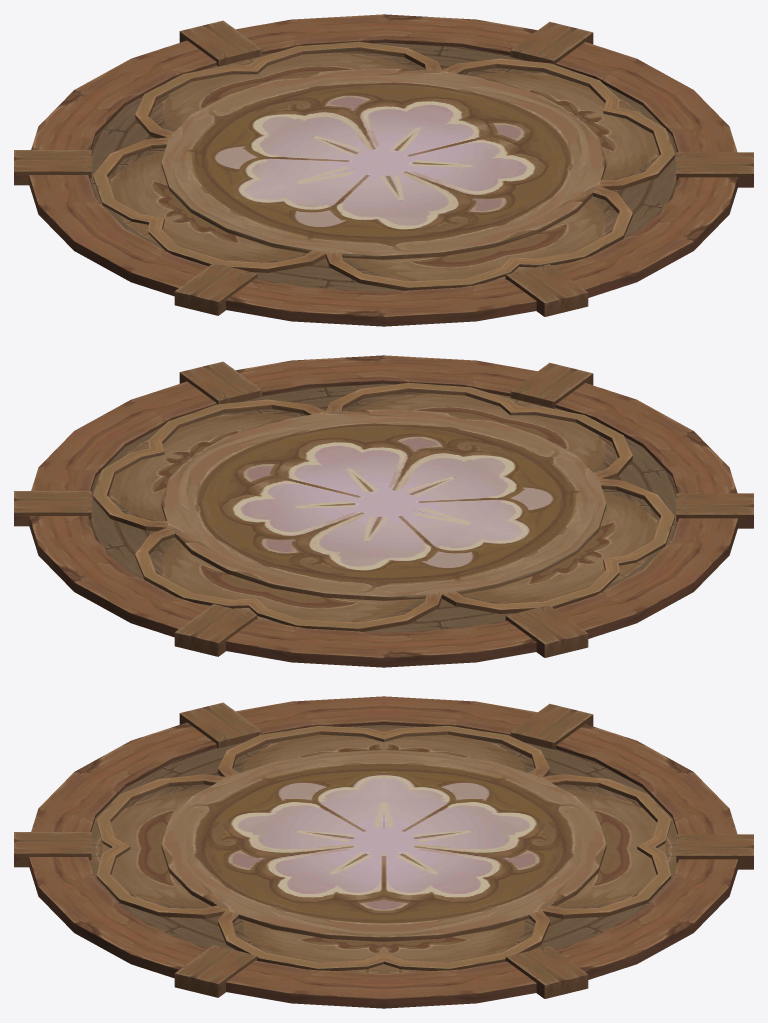
File: map_xuanren_wujian_1.fbx
3 views of the same model, one above another, from view 1: azimuth 30°, elevation 25°; view 2: azimuth 150°, elevation 25°; view 3: azimuth 270°, elevation 25° (orthographic).
Visible parts, largest first — view 1: xuanrenbh_taizi01; view 2: xuanrenbh_taizi01; view 3: xuanrenbh_taizi01.
Part boxes in pixels (box(x1,y1,x2,y2)): xuanrenbh_taizi01: box(14, 14, 753, 326); xuanrenbh_taizi01: box(14, 355, 753, 667); xuanrenbh_taizi01: box(14, 696, 753, 1008).
Bounding box in the file's own units: 1.11 × 0.0242 × 1.15.
